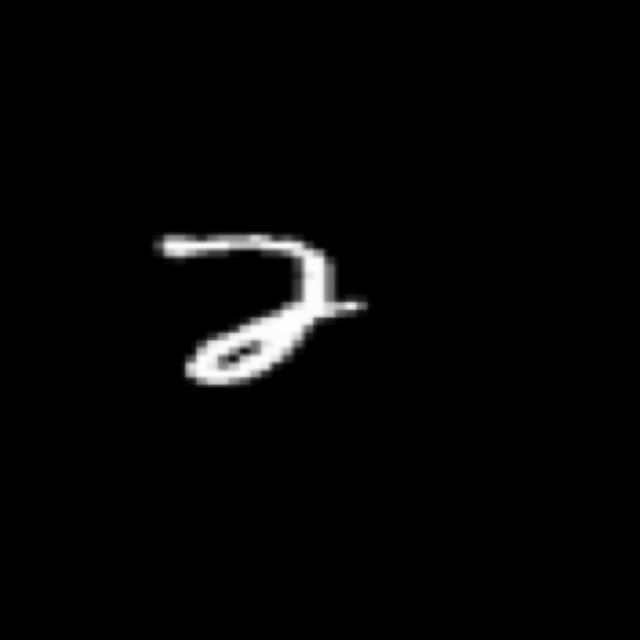two -2-: (144, 219, 379, 393)
